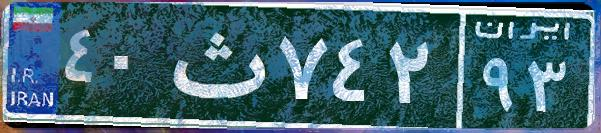0: (110, 28, 158, 105)
2: (385, 28, 445, 110)
3: (525, 38, 570, 115)
4: (330, 28, 385, 110), (57, 26, 110, 107)
7: (273, 28, 330, 110)
9: (475, 38, 525, 113)
ث: (158, 15, 273, 115)
